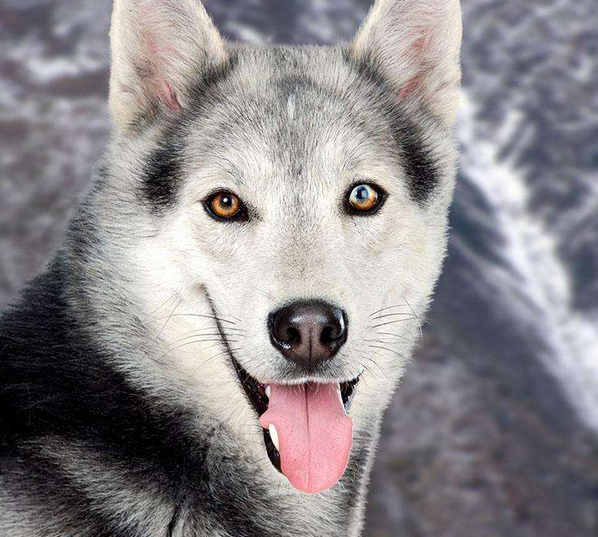nose: (263, 291, 355, 373)
